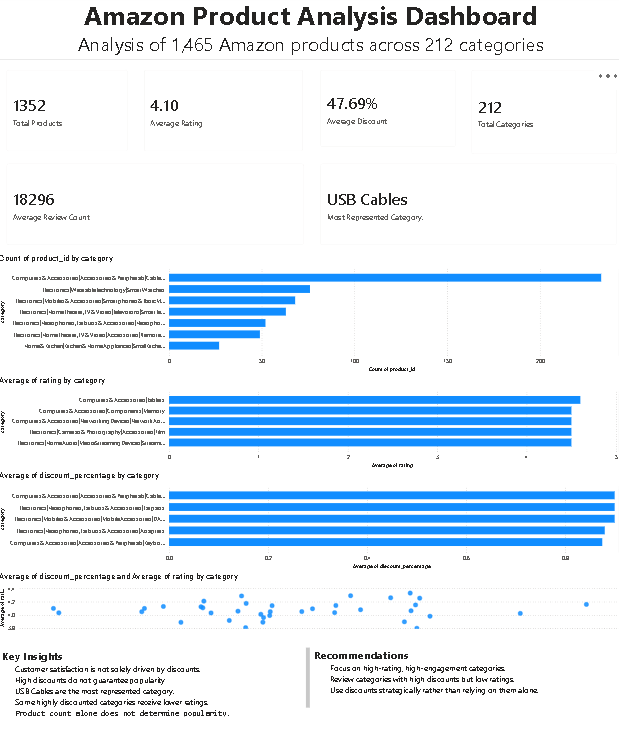

The dashboard page shown, as its layout file describes it:
{"tool":"powerbi","page":{"name":"Page 1","canvas":[1280,1500],"ordinal":0},"visuals":[{"type":"cardVisual","fields":{"Data":["raw_data.Total Products"]},"box":[1.7,136.7,281.7,200],"z":0},{"type":"cardVisual","fields":{"Data":["pivot.Average Rating"]},"box":[283.3,136.7,358.3,200],"z":1000},{"type":"cardVisual","fields":{"Data":["pivot.Average Discount"]},"box":[641.7,136.7,310,191.7],"z":2000},{"type":"cardVisual","fields":{"Data":["pivot.Total categories"]},"box":[950,136.7,330,206.7],"z":3000},{"type":"cardVisual","fields":{"Data":["pivot.Average Rating Count"]},"box":[2,328,640,200],"z":4000},{"type":"cardVisual","fields":{"Data":["pivot.Most_Represented_Category"]},"box":[642,328,638,200],"z":5000},{"type":"clusteredBarChart","fields":{"Category":["raw_data.category"],"Y":["CountNonNull(raw_data.product_id)"]},"box":[0,528,1280,248],"z":6000},{"type":"clusteredBarChart","fields":{"Category":["raw_data.category"],"Y":["Avg(raw_data.rating)"]},"box":[0,776,1280,194],"z":7000},{"type":"clusteredBarChart","fields":{"Category":["raw_data.category"],"Y":["Avg(raw_data.discount_percentage)"]},"box":[0,970,1280,206],"z":8000},{"type":"scatterChart","fields":{"X":["Avg(raw_data.discount_percentage)"],"Y":["Avg(raw_data.rating)"],"Category":["raw_data.category"]},"box":[0,1176,1280,130],"z":9000},{"type":"textbox","box":[0,0,1280,136],"z":10000},{"type":"textbox","box":[0,1327.7,642.3,150],"z":11000},{"type":"textbox","box":[642,1328,638,150],"z":12000}]}

Visuals, with their boxes in screenshot pixels (x1, y1, x2, y2), scaled from the page's 1280x1500 canvas onto the 619x729 screenshot:
cardVisual - raw_data.Total Products: BBox(1, 66, 137, 164)
cardVisual - pivot.Average Rating: BBox(137, 66, 310, 164)
cardVisual - pivot.Average Discount: BBox(310, 66, 460, 160)
cardVisual - pivot.Total categories: BBox(459, 66, 618, 167)
cardVisual - pivot.Average Rating Count: BBox(1, 159, 310, 257)
cardVisual - pivot.Most_Represented_Category: BBox(310, 159, 618, 257)
clusteredBarChart - raw_data.category x CountNonNull(raw_data.product_id): BBox(0, 257, 618, 377)
clusteredBarChart - raw_data.category x Avg(raw_data.rating): BBox(0, 377, 618, 471)
clusteredBarChart - raw_data.category x Avg(raw_data.discount_percentage): BBox(0, 471, 618, 572)
scatterChart - Avg(raw_data.discount_percentage) x Avg(raw_data.rating): BBox(0, 572, 618, 635)
textbox: BBox(0, 0, 618, 66)
textbox: BBox(0, 645, 311, 718)
textbox: BBox(310, 645, 618, 718)
